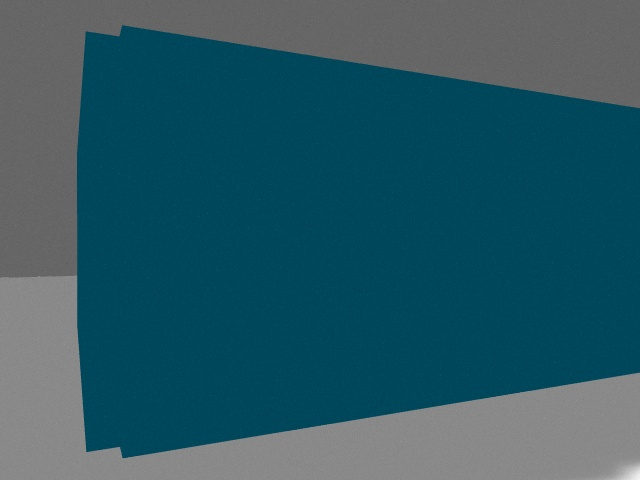blue_drop_zone: (77, 25, 640, 458)
